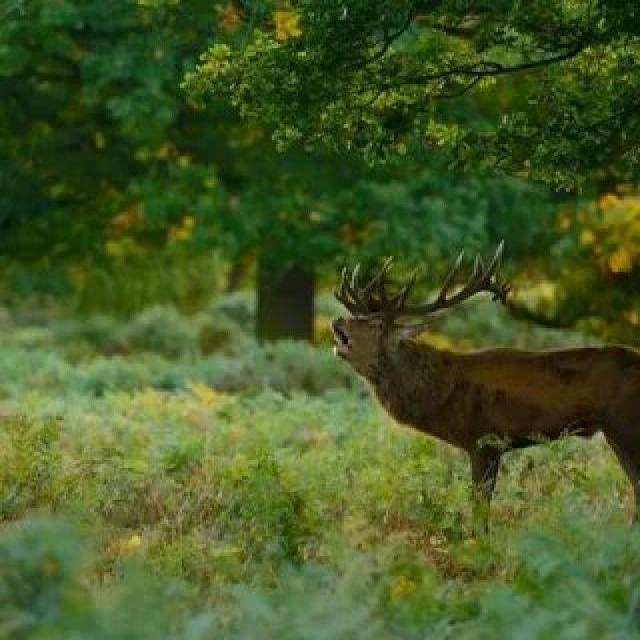deer: (296, 211, 640, 533)
